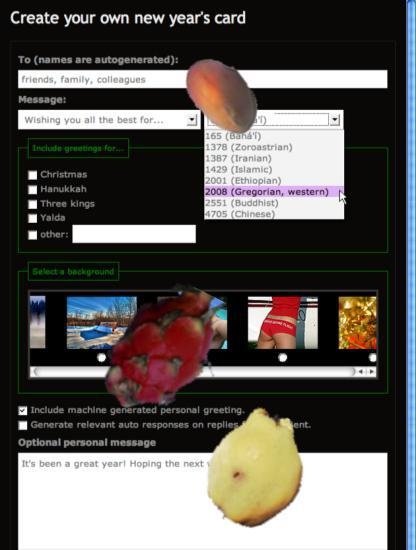Hazelnut: (178, 52, 268, 142)
Pitahaya: (99, 282, 239, 422)
Quince: (198, 410, 318, 530)
